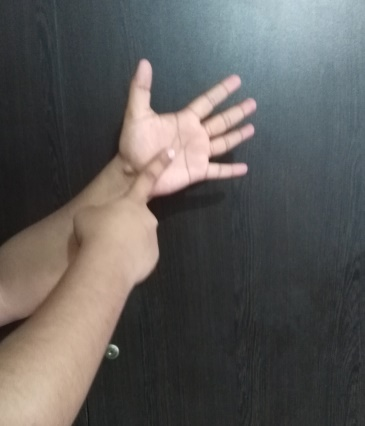oo: (71, 57, 258, 267)
